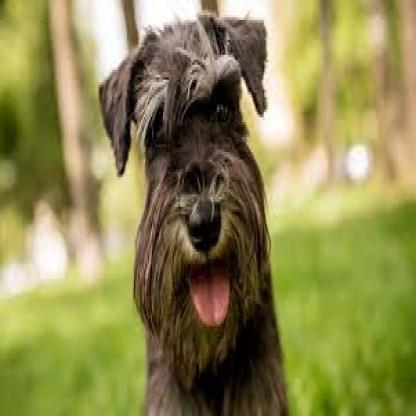Schnauzer: (97, 12, 285, 416)
